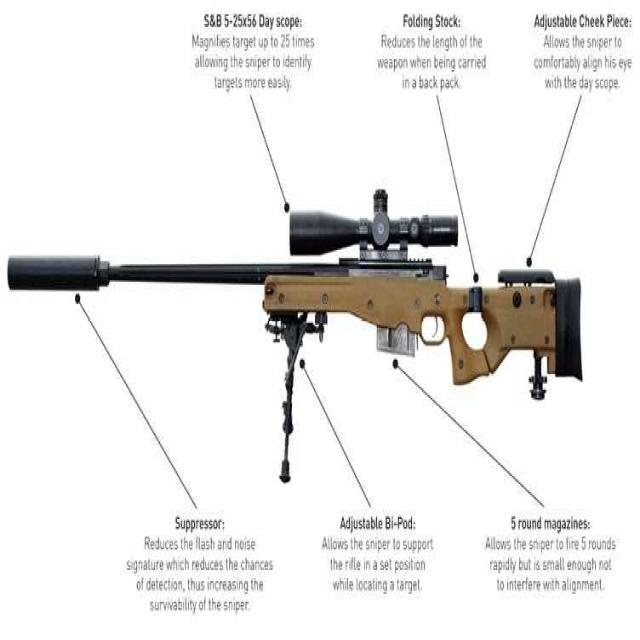weapon: (1, 144, 610, 506)
